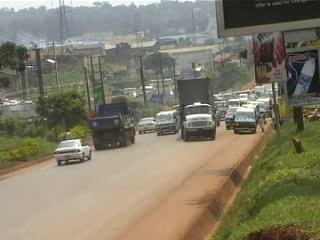Car: (52, 136, 95, 166), (133, 113, 157, 135)
